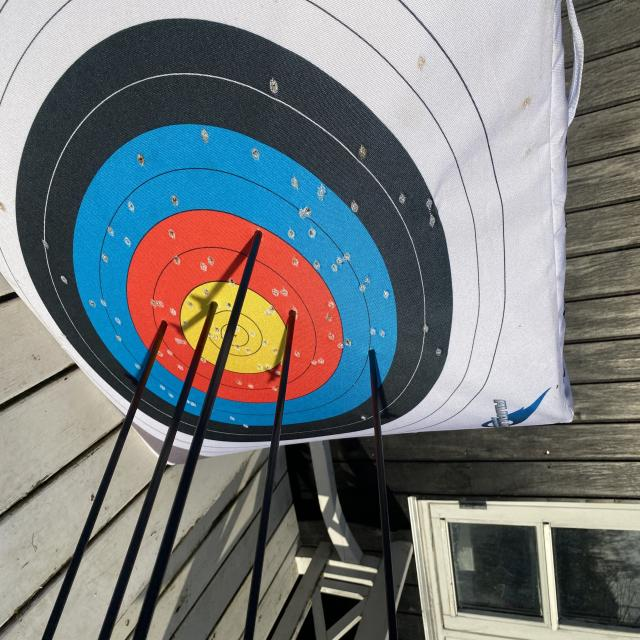Arrow_Blue: (364, 334, 380, 370)
Arrow_Red: (150, 302, 175, 345), (281, 289, 306, 329), (242, 222, 270, 252)
Arrow_Yellow: (199, 295, 228, 323)
